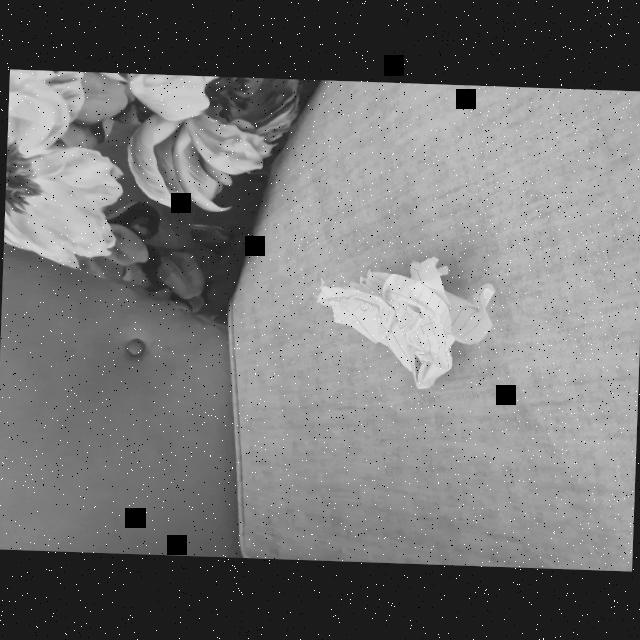scrap_paper: (311, 260, 491, 386)
